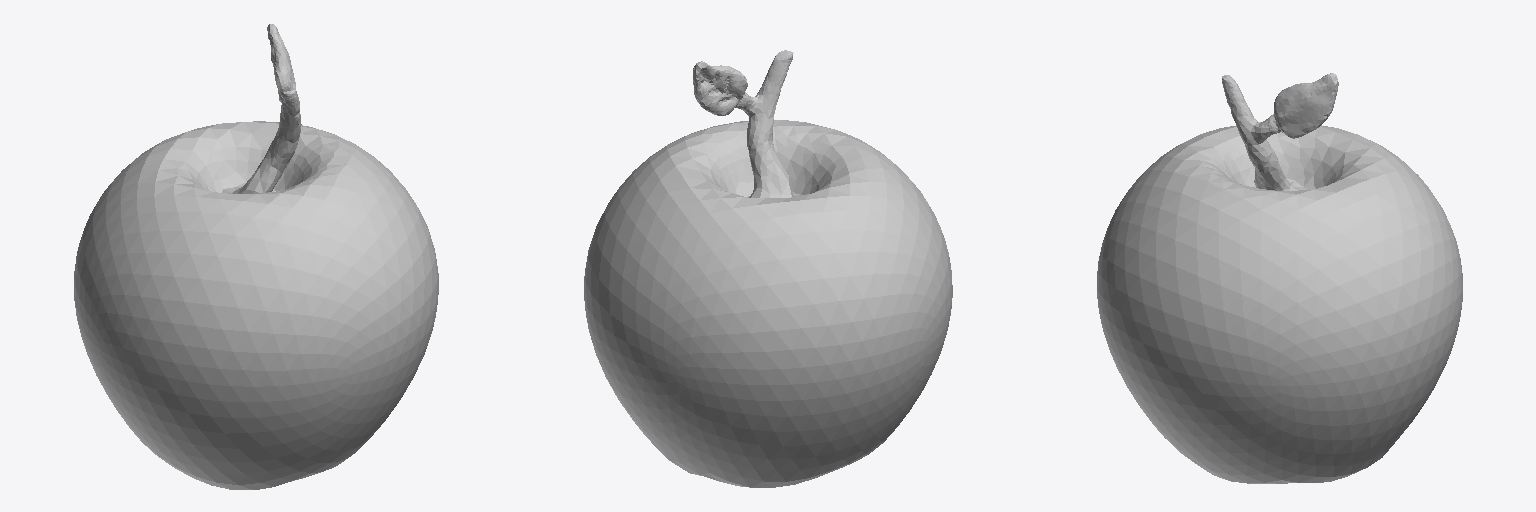
Rendered from apple_images120.obj.
3 renders of one model, left to right at view 1: azimuth 30°, elevation 25°; view 2: azimuth 150°, elevation 25°; view 3: azimuth 270°, elevation 25°, orthographic.
Parts seen in each view (by area): view 1: body_Manzana.027, stem_Manzana.027; view 2: body_Manzana.027, stem_Manzana.027; view 3: body_Manzana.027, stem_Manzana.027.
Boxes of the visible parts, x1,y1,x2,y2 form: body_Manzana.027: [74, 121, 438, 489]; stem_Manzana.027: [94, 24, 301, 412]; body_Manzana.027: [584, 120, 952, 487]; stem_Manzana.027: [609, 50, 922, 416]; body_Manzana.027: [1097, 125, 1462, 483]; stem_Manzana.027: [1222, 73, 1457, 349].
Bounding box in the file's own units: 8.24 × 10.03 × 8.22.